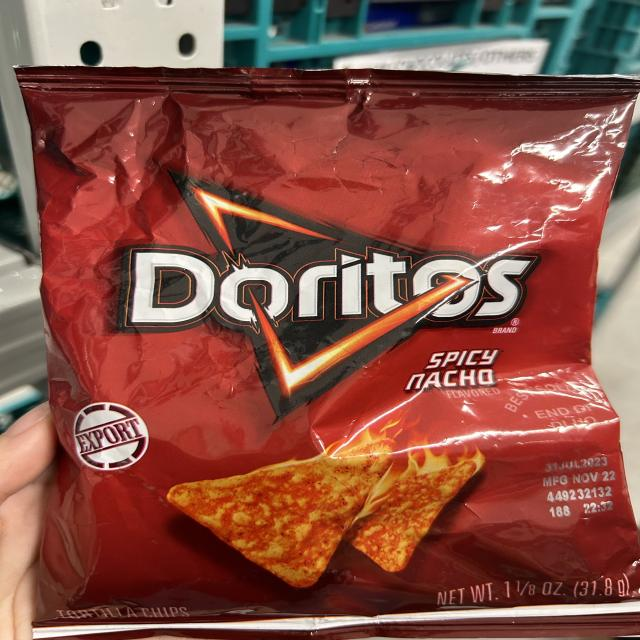object_name: (32, 70, 629, 610)
